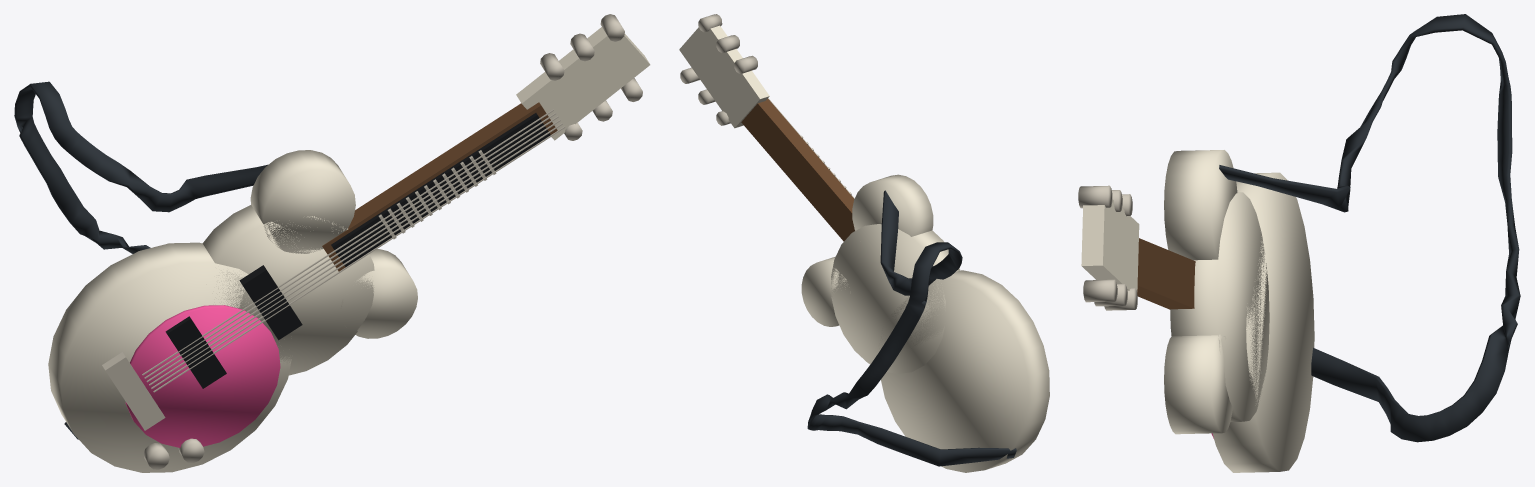
Rendered from noodle-guitar-v3.glb.
3 views of the same model, side by side, from view 1: azimuth 30°, elevation 25°; view 2: azimuth 150°, elevation 25°; view 3: azimuth 270°, elevation 25° (orthographic). The views are drawn at different scales.
Parts seen in each view (by area): view 1: noodle-guitar; view 2: noodle-guitar; view 3: noodle-guitar.
Part boxes in pixels (bbox=[...]): noodle-guitar: bbox=[14, 14, 650, 472]; noodle-guitar: bbox=[679, 14, 1049, 472]; noodle-guitar: bbox=[1078, 14, 1520, 472].
Bounding box in the file's own units: 0.7329 × 0.5506 × 0.4412.
